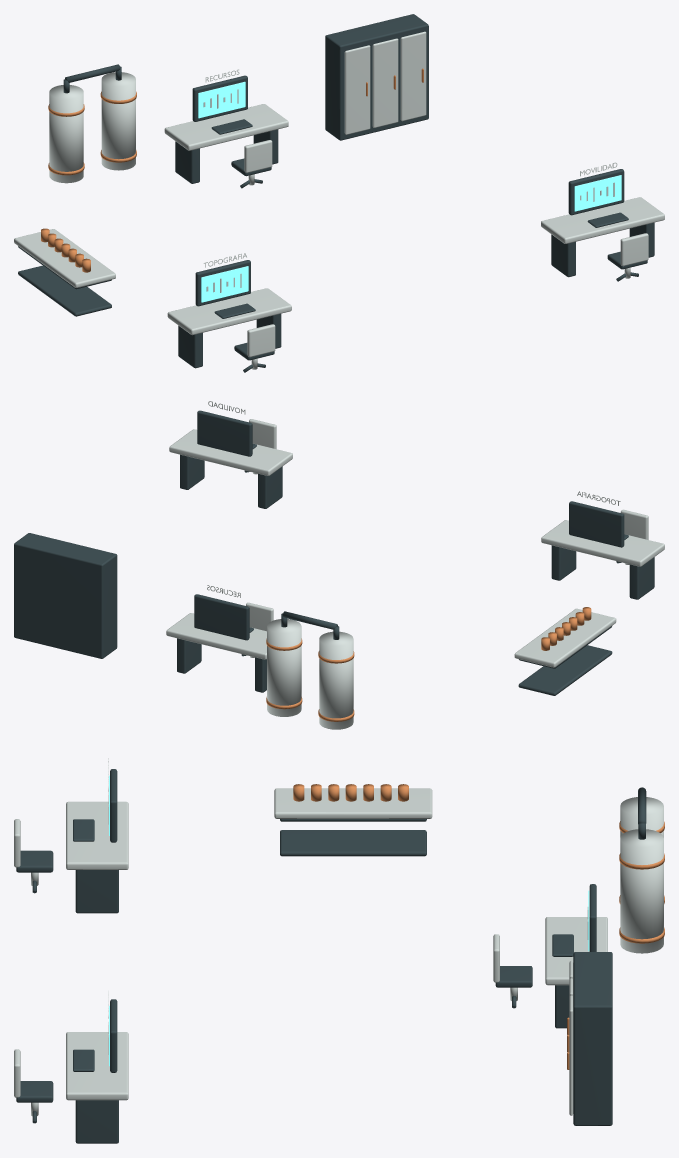
The model's file is eva01-interior.glb.
The picture shows the model from 3 angles, top to bottom: view 1: azimuth 30°, elevation 25°; view 2: azimuth 150°, elevation 25°; view 3: azimuth 270°, elevation 25°; orthographic projection. The views are drawn at different scales.
Parts seen in each view (by area): view 1: Almacenamiento científico, Cartucho de soporte vital, Cartucho de soporte vital.001, Superficie de trabajo, Superficie de trabajo.002, Superficie de trabajo.001, Mesa de muestras, Taquilla de material, Taquilla de material.001, Taquilla de material.002, Estante de muestras, Pantalla de lectura.002 (+11 smaller); view 2: Almacenamiento científico, Cartucho de soporte vital.001, Cartucho de soporte vital, Mesa de muestras, Superficie de trabajo.001, Superficie de trabajo, Estante de muestras, Monitor de estación, Monitor de estación.001, Monitor de estación.002, Superficie de trabajo.002, Soporte de mesa (+7 smaller); view 3: Almacenamiento científico, Cartucho de soporte vital.001, Mesa de muestras, Estante de muestras, Superficie de trabajo, Superficie de trabajo.001, Superficie de trabajo.002, Soporte de mesa.003, Soporte de mesa.001, Cartucho de soporte vital, Asiento, Asiento.001 (+5 smaller).
Boxes of the visible parts, x1,y1,x2,y2 form: Almacenamiento científico: (325,14,428,140); Cartucho de soporte vital: (49,85,83,183); Cartucho de soporte vital.001: (101,72,135,170); Superficie de trabajo: (167,288,291,334); Superficie de trabajo.002: (164,104,288,150); Superficie de trabajo.001: (541,197,664,243); Mesa de muestras: (14,229,115,287); Taquilla de material: (344,45,370,134); Taquilla de material.001: (372,38,398,127); Taquilla de material.002: (400,31,426,121); Estante de muestras: (18,265,111,316); Pantalla de lectura.002: (198,81,245,118); Almacenamiento científico: (14,533,117,658); Cartucho de soporte vital.001: (267,619,301,716); Cartucho de soporte vital: (319,631,353,729); Mesa de muestras: (514,608,616,667); Superficie de trabajo.001: (169,429,292,475); Superficie de trabajo: (541,520,664,566); Estante de muestras: (518,645,612,695); Monitor de estación: (569,501,624,547); Monitor de estación.001: (197,410,252,456); Monitor de estación.002: (194,594,249,640); Superficie de trabajo.002: (166,613,266,659); Soporte de mesa: (629,557,654,599); Almacenamiento científico: (573,952,612,1125); Cartucho de soporte vital.001: (620,829,663,953); Mesa de muestras: (274,788,432,818); Estante de muestras: (280,830,426,856); Superficie de trabajo: (66,801,128,869); Superficie de trabajo.001: (66,1032,128,1100); Superficie de trabajo.002: (545,917,607,985); Soporte de mesa.003: (75,1100,118,1143); Soporte de mesa.001: (75,870,118,913); Cartucho de soporte vital: (620,797,663,837); Asiento: (16,850,53,872); Asiento.001: (16,1081,53,1102).
Bounding box in the file's own units: 13.6 × 2.67 × 11.95.
